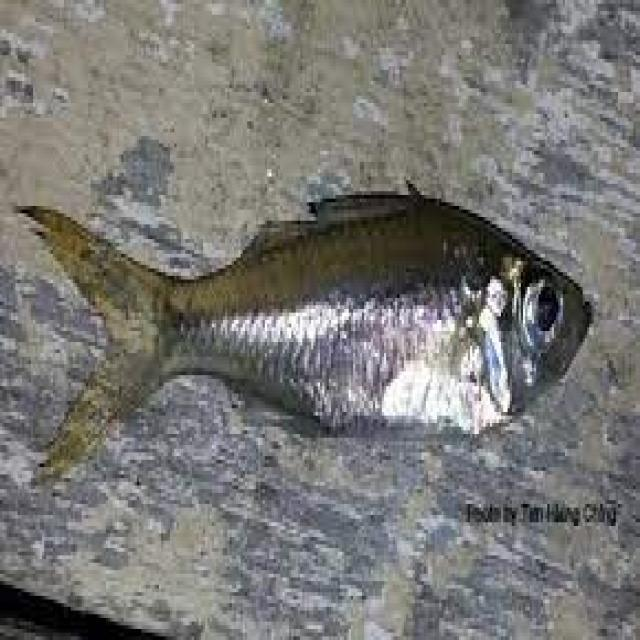Glass-Perchlet: (11, 142, 614, 507)
